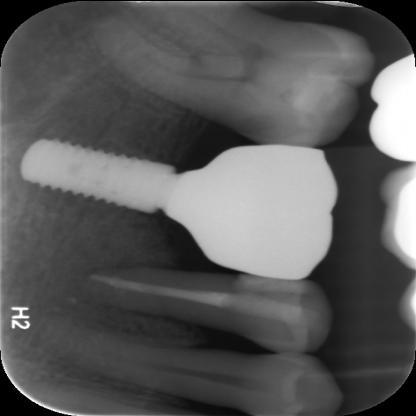ITI: (17, 118, 172, 216)
